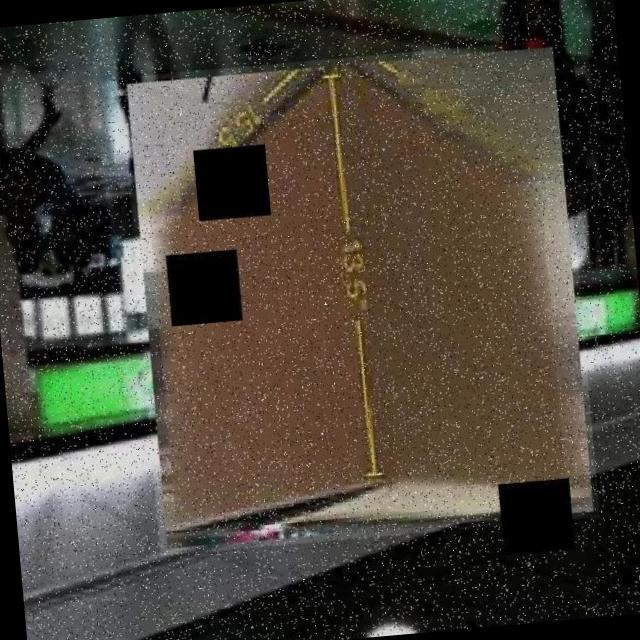box: (118, 38, 600, 555)
